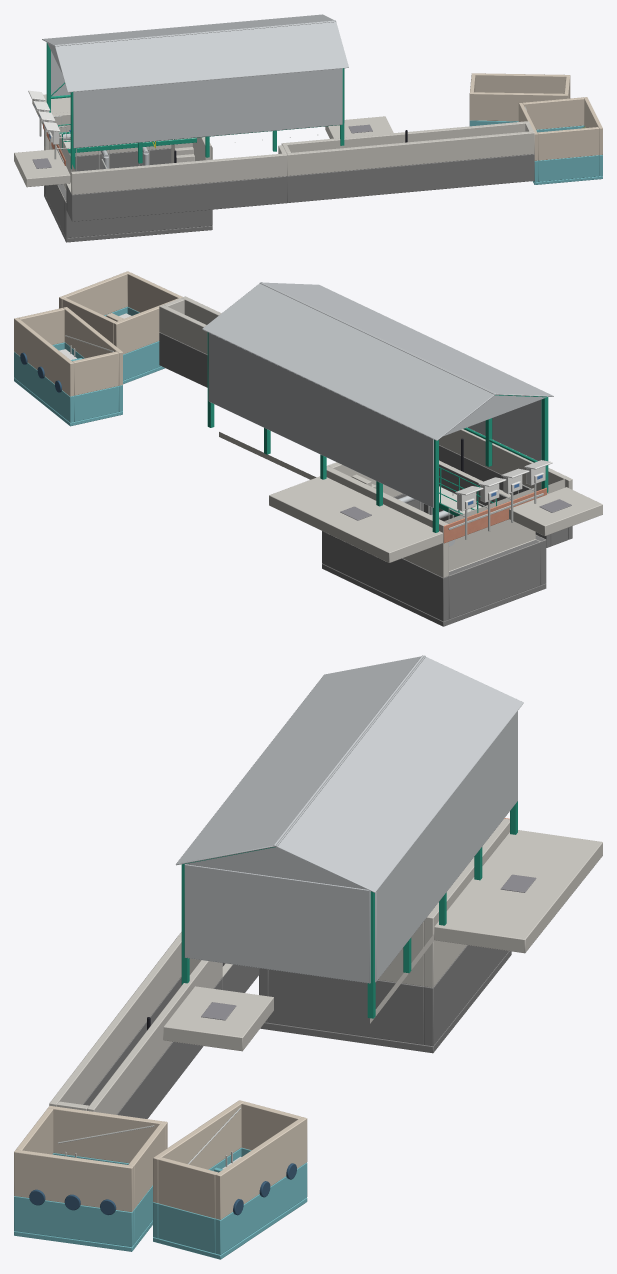
The model's file is Station_pompage.glb.
3 renders of one model, top to bottom at view 1: azimuth 30°, elevation 25°; view 2: azimuth 150°, elevation 25°; view 3: azimuth 270°, elevation 25°, orthographic. The views are drawn at different scales.
Parts seen in each view (by area): view 1: SP_SP_Tole_grise, SP_SP_Beton, SP_SP_Beton_humide, SP_Chambres_repartition_bet, SP_SP_Charpente_verte, SP_Chambres_repartition_turq, SP_Analyseurs, SP_SP_Trappe; view 2: SP_SP_Tole_grise, SP_SP_Beton, SP_SP_Beton_humide, SP_Chambres_repartition_bet, SP_Chambres_repartition_turq, SP_SP_Charpente_verte, SP_Analyseurs, SP_Muret_terracotta, SP_Analyseurs_poteaux, SP_SP_Trappe; view 3: SP_SP_Tole_grise, SP_SP_Beton, SP_Chambres_repartition_bet, SP_SP_Beton_humide, SP_Chambres_repartition_turq, SP_SP_Charpente_verte, SP_Chambres_repartition_trou, SP_SP_Trappe.
Part boxes in pixels (x1,y1,x2,y2): SP_SP_Tole_grise: [42, 14, 348, 148]; SP_SP_Beton: [14, 94, 534, 202]; SP_SP_Beton_humide: [44, 148, 534, 242]; SP_Chambres_repartition_bet: [469, 73, 602, 160]; SP_SP_Charpente_verte: [46, 42, 344, 169]; SP_Chambres_repartition_turq: [469, 120, 602, 184]; SP_Analyseurs: [28, 90, 59, 144]; SP_SP_Trappe: [32, 124, 372, 168]; SP_SP_Tole_grise: [202, 282, 553, 507]; SP_SP_Beton: [159, 296, 602, 577]; SP_SP_Beton_humide: [159, 332, 572, 626]; SP_Chambres_repartition_bet: [14, 271, 182, 396]; SP_Chambres_repartition_turq: [14, 306, 164, 426]; SP_SP_Charpente_verte: [207, 332, 548, 532]; SP_Analyseurs: [455, 460, 552, 511]; SP_Muret_terracotta: [443, 487, 546, 543]; SP_Analyseurs_poteaux: [448, 484, 543, 539]; SP_SP_Trappe: [340, 499, 571, 520]; SP_SP_Tole_grise: [176, 655, 523, 983]; SP_SP_Beton: [49, 818, 602, 1114]; SP_Chambres_repartition_bet: [14, 1100, 307, 1219]; SP_SP_Beton_humide: [83, 945, 511, 1118]; SP_Chambres_repartition_turq: [14, 1147, 307, 1259]; SP_SP_Charpente_verte: [181, 801, 517, 1018]; SP_Chambres_repartition_trou: [29, 1163, 296, 1215]; SP_SP_Trappe: [201, 874, 536, 1020].
Bounding box in the file's own units: 37.71 × 12.28 × 22.85.
Materials: 21 (21 with a texture image).
